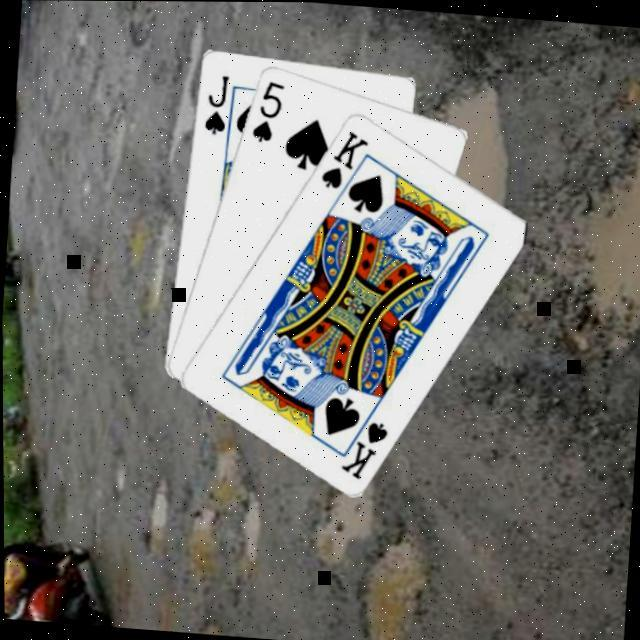5S: (245, 75, 285, 145)
JS: (197, 70, 230, 138)
KS: (333, 403, 390, 483), (315, 124, 371, 193)
